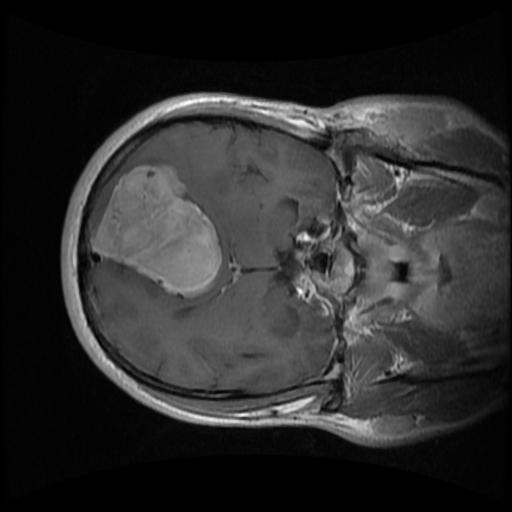meningioma: (91, 165, 224, 297)
